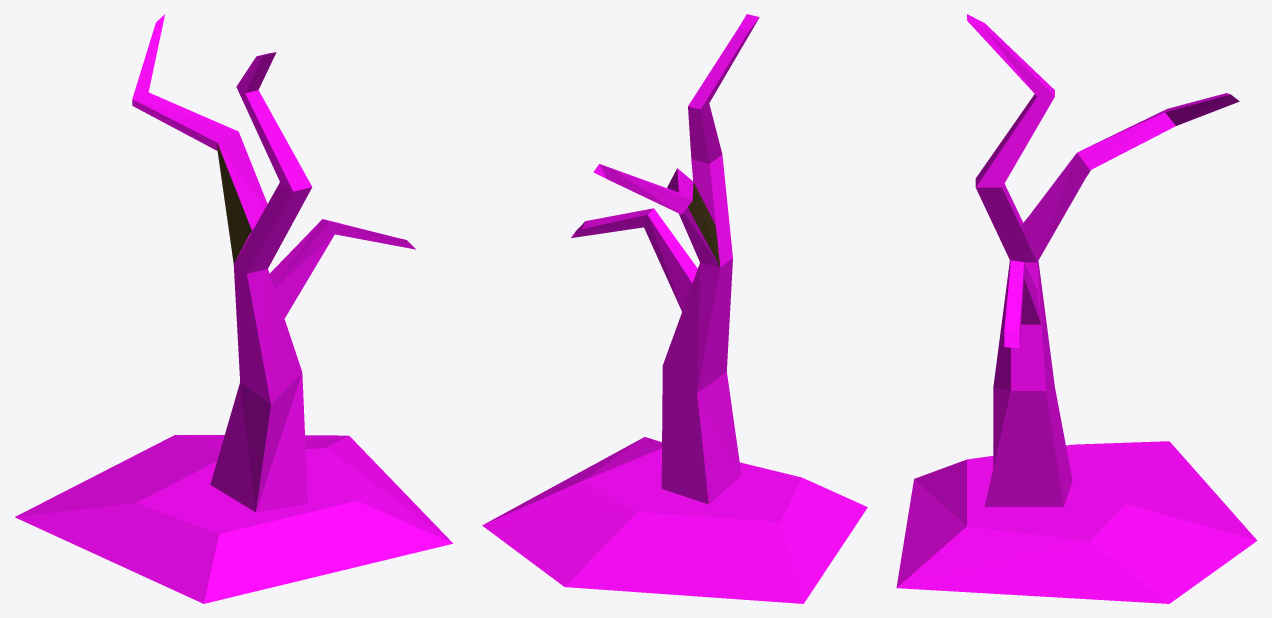
The model's file is deadtree2base.obj.
The picture shows the model from 3 angles, left to right: view 1: azimuth 30°, elevation 25°; view 2: azimuth 150°, elevation 25°; view 3: azimuth 270°, elevation 25°; orthographic projection. The views are drawn at different scales.
Parts seen in each view (by area): view 1: deadtree2base_front, deadtree2base_back; view 2: deadtree2base_front, deadtree2base_back; view 3: deadtree2base_front, deadtree2base_back.
Boxes of the visible parts, x1,y1,x2,y2 form: deadtree2base_front: (15, 55, 452, 603); deadtree2base_back: (132, 14, 386, 511); deadtree2base_front: (482, 18, 867, 603); deadtree2base_back: (571, 14, 759, 503); deadtree2base_front: (896, 21, 1257, 603); deadtree2base_back: (967, 14, 1230, 390).
Size of the model in its own units: 1.75 by 2.54 by 1.64.
